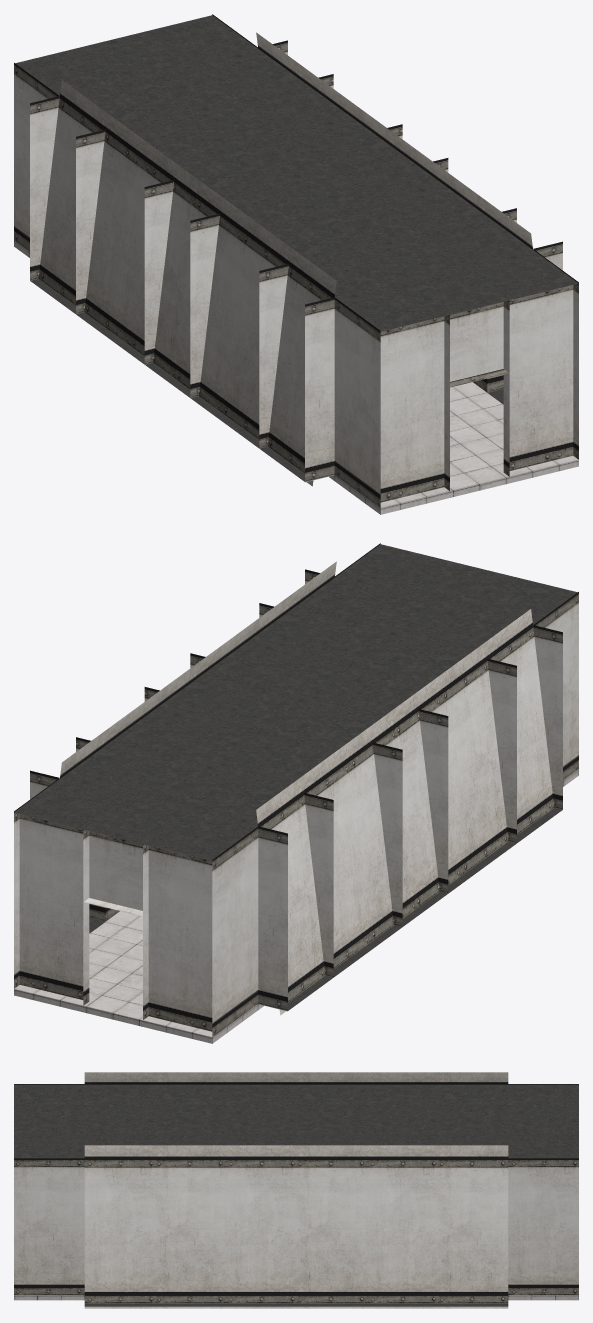
The model's file is Corridor.glb.
The picture shows the model from 3 angles, top to bottom: view 1: azimuth 30°, elevation 25°; view 2: azimuth 150°, elevation 25°; view 3: azimuth 270°, elevation 25°; orthographic projection. The views are drawn at different scales.
Parts seen in each view (by area): view 1: default_drawnmesh0_0, default_drawnmesh2_0, default_drawnmesh1_0, default_drawnmesh3_0; view 2: default_drawnmesh0_0, default_drawnmesh2_0, default_drawnmesh1_0, default_drawnmesh3_0; view 3: default_drawnmesh0_0, default_drawnmesh2_0, default_drawnmesh3_0, default_drawnmesh1_0.
Part boxes in pixels (x1,y1,x2,y2): default_drawnmesh0_0: [14, 14, 578, 508]; default_drawnmesh2_0: [15, 15, 578, 331]; default_drawnmesh1_0: [14, 240, 578, 514]; default_drawnmesh3_0: [30, 279, 503, 481]; default_drawnmesh0_0: [14, 543, 578, 1037]; default_drawnmesh2_0: [14, 544, 577, 860]; default_drawnmesh1_0: [14, 769, 578, 1043]; default_drawnmesh3_0: [89, 808, 562, 1010]; default_drawnmesh0_0: [14, 1072, 578, 1308]; default_drawnmesh2_0: [14, 1084, 578, 1158]; default_drawnmesh3_0: [84, 1303, 508, 1306]; default_drawnmesh1_0: [14, 1295, 578, 1300].
Bounding box in the file's own units: 8.32 × 6.16 × 20.48.
4 materials, 4 textured.
